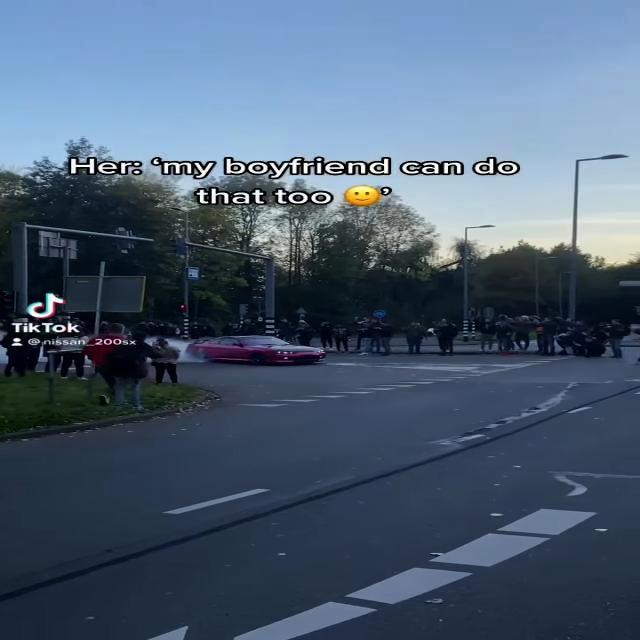car: (189, 335, 331, 368)
